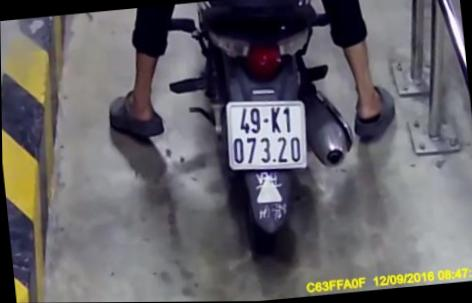LP: (222, 92, 312, 175)
